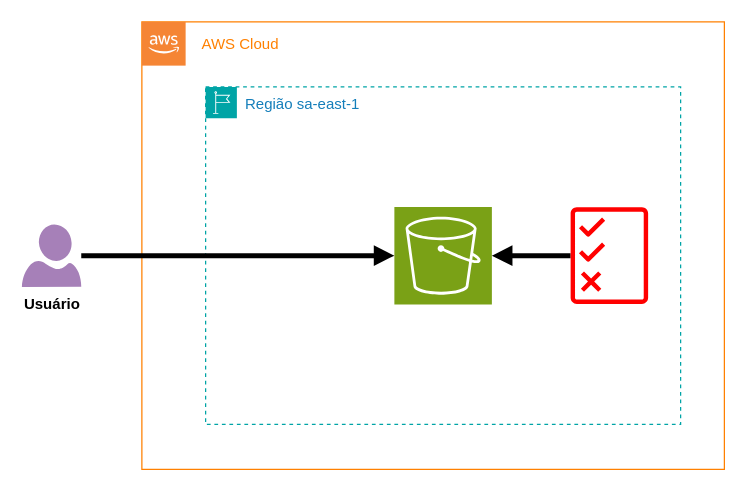
Image size: 746x491. Some labels were removed from this diagram. The centre of each missing label's shape, as x and y in pixels:
"Política baseada em recursos" goes at pixel 609 255.
"S3" goes at pixel 442 255.
